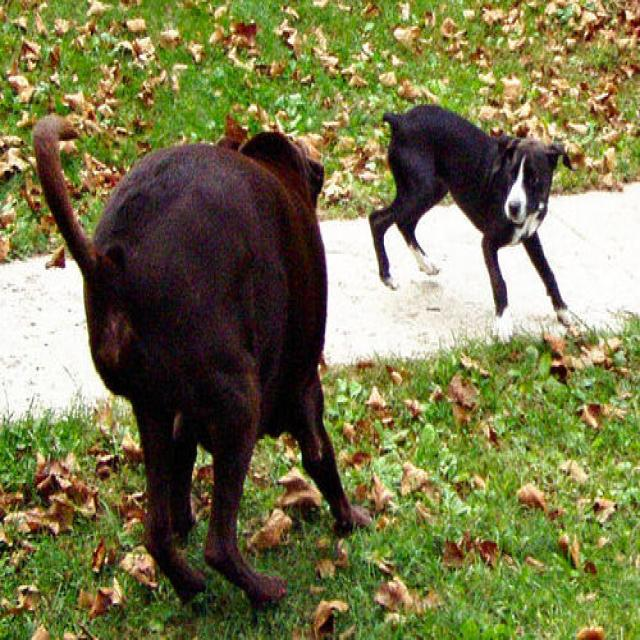dog: (32, 114, 372, 609), (368, 103, 585, 327)
